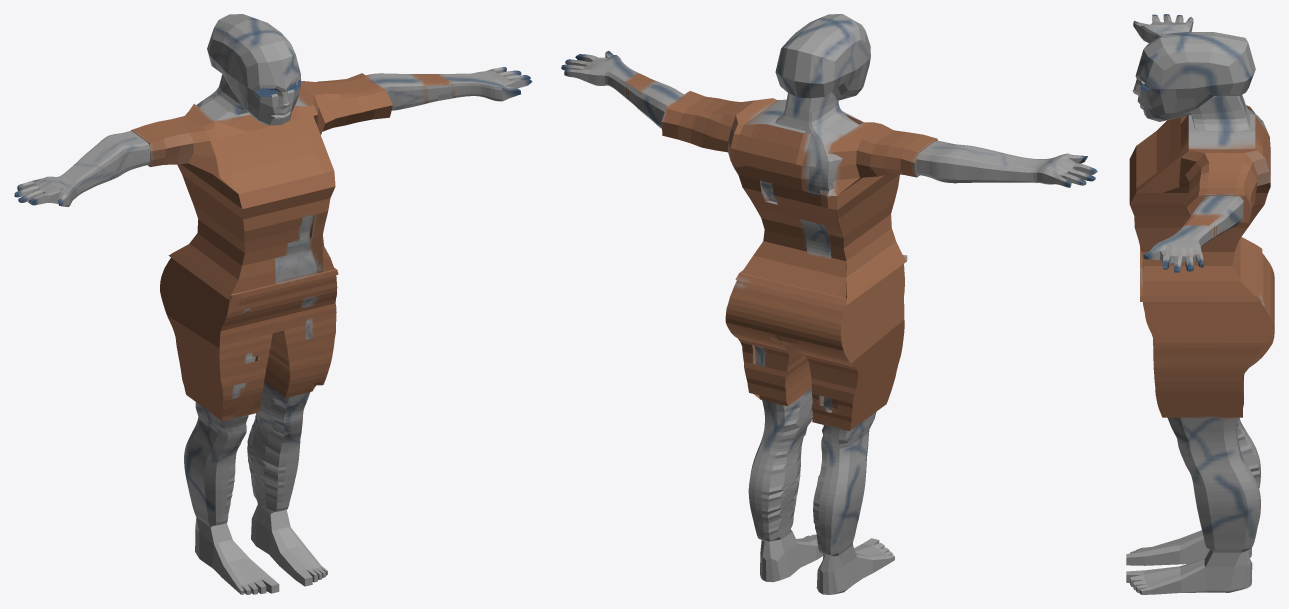
Rendered from Z_Zombie.obj.
3 views of the same model, side by side, from view 1: azimuth 30°, elevation 25°; view 2: azimuth 150°, elevation 25°; view 3: azimuth 270°, elevation 25° (orthographic).
Parts seen in each view (by area): view 1: Cabeza.002; view 2: Cabeza.002; view 3: Cabeza.002.
Boxes of the visible parts, x1=… form: Cabeza.002: x1=14, y1=14, x2=532, y2=594; Cabeza.002: x1=561, y1=14, x2=1097, y2=594; Cabeza.002: x1=1126, y1=14, x2=1274, y2=594.
Size of the model in its own units: 2 by 2 by 0.5.
